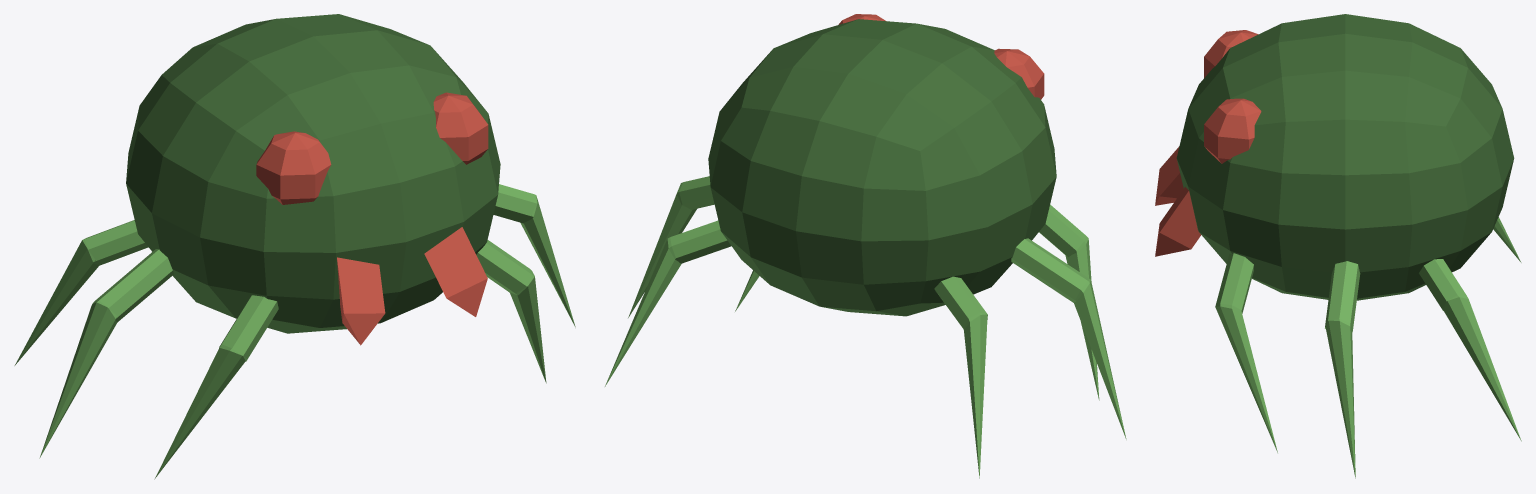
Rendered from enemy03-02.fbx.
3 views of the same model, side by side, from view 1: azimuth 30°, elevation 25°; view 2: azimuth 150°, elevation 25°; view 3: azimuth 270°, elevation 25° (orthographic). The views are drawn at different scales.
Parts seen in each view (by area): view 1: enemy03-02; view 2: enemy03-02; view 3: enemy03-02.
Part boxes in pixels (x1,y1,x2,y2): enemy03-02: [14, 14, 575, 479]; enemy03-02: [605, 14, 1126, 478]; enemy03-02: [1155, 14, 1521, 478].
Size of the model in its own units: 279 by 183 by 182.
